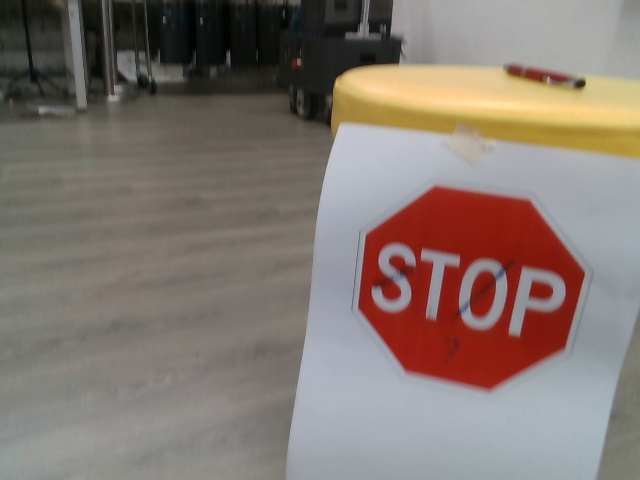stop: (350, 180, 595, 402)
